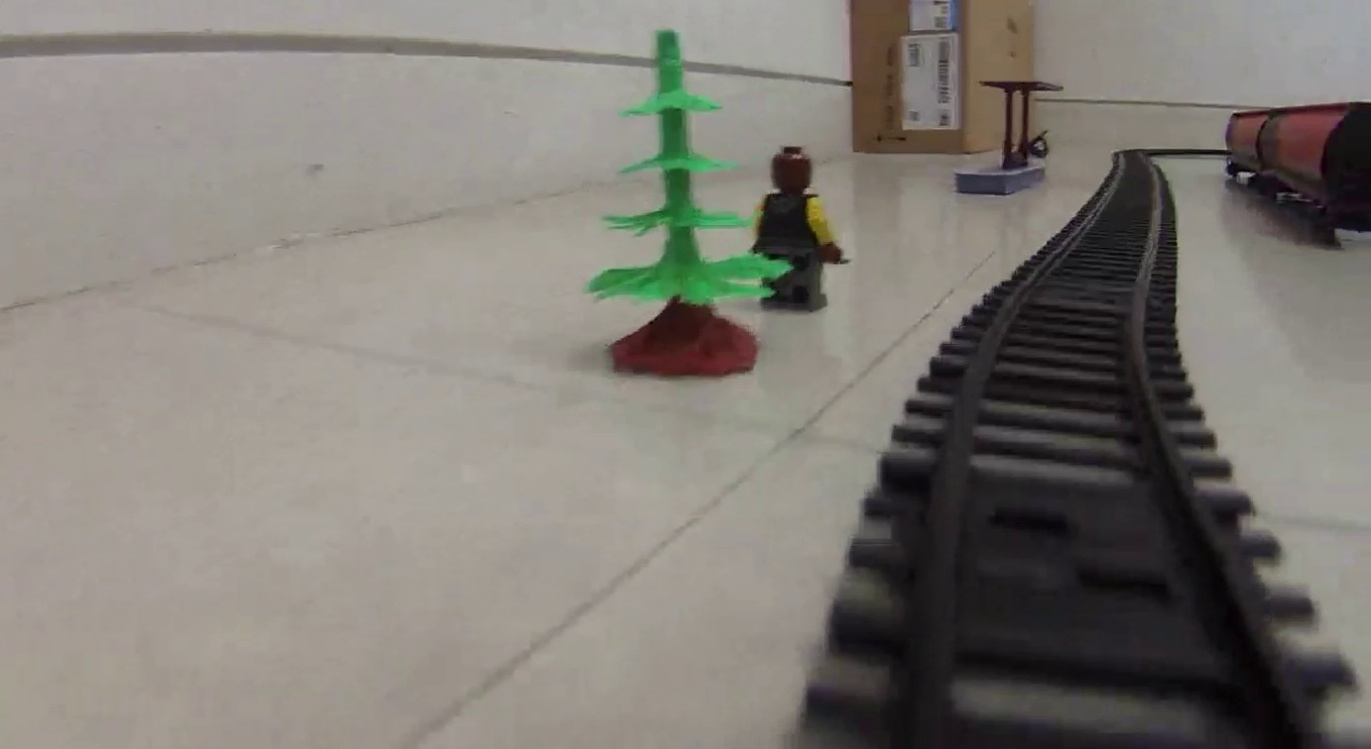people: (755, 150, 848, 309)
tree: (585, 28, 793, 384)
